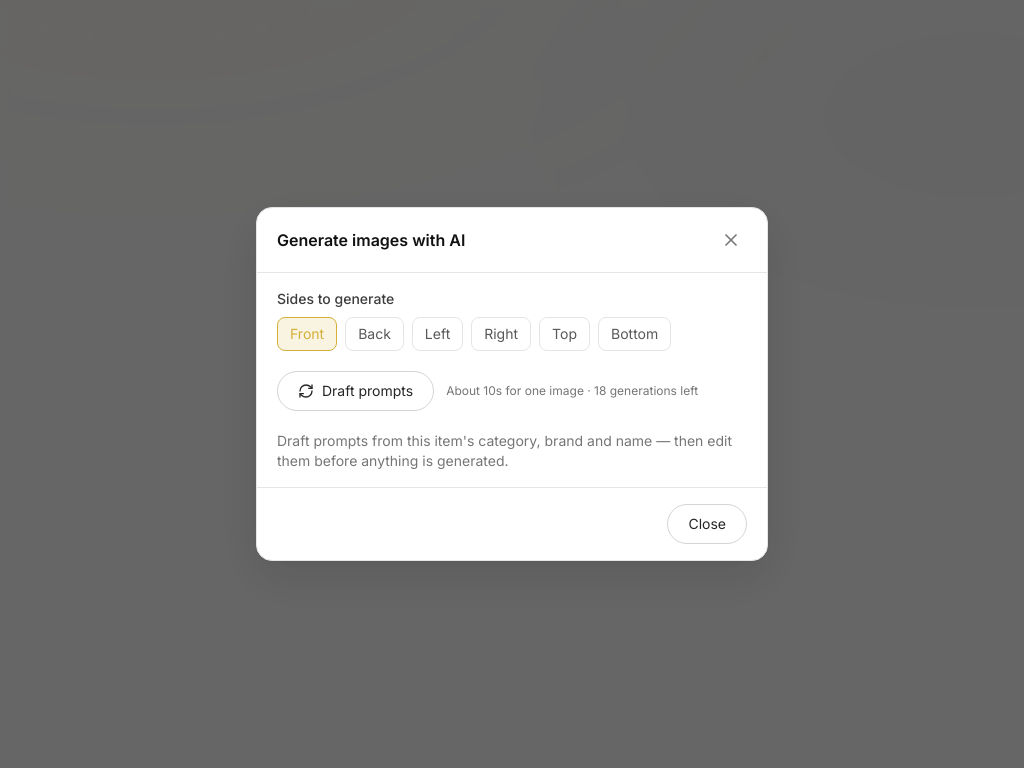
Test case: AI image studio › reports a failed side without discarding the rest
Click the button "Draft prompts" at (356, 391), box [277,371,434,411]
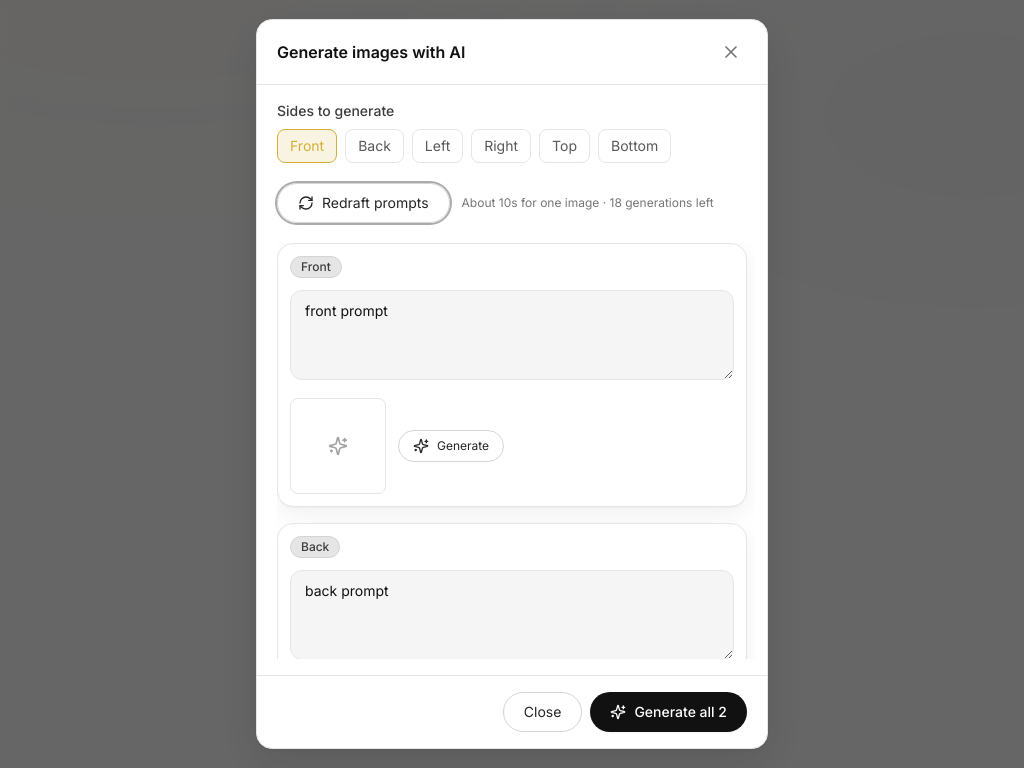
Expected: the text box showing "front prompt" is shown, [290,290,734,380]
Click the button "Generate all 2" at (669, 712), box [590,692,747,732]
(page scrolled)
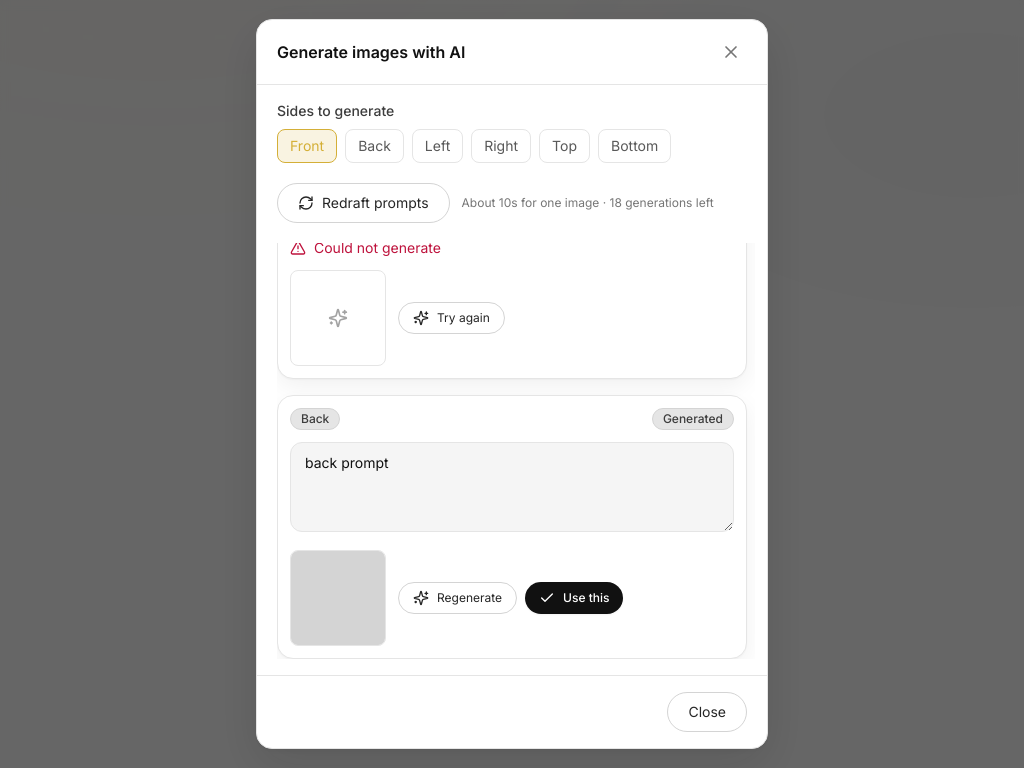
Expected: the text "Could not generate" is shown, [290,243,441,256]
Expected: the button "Use this" is shown, [525,582,623,614]
